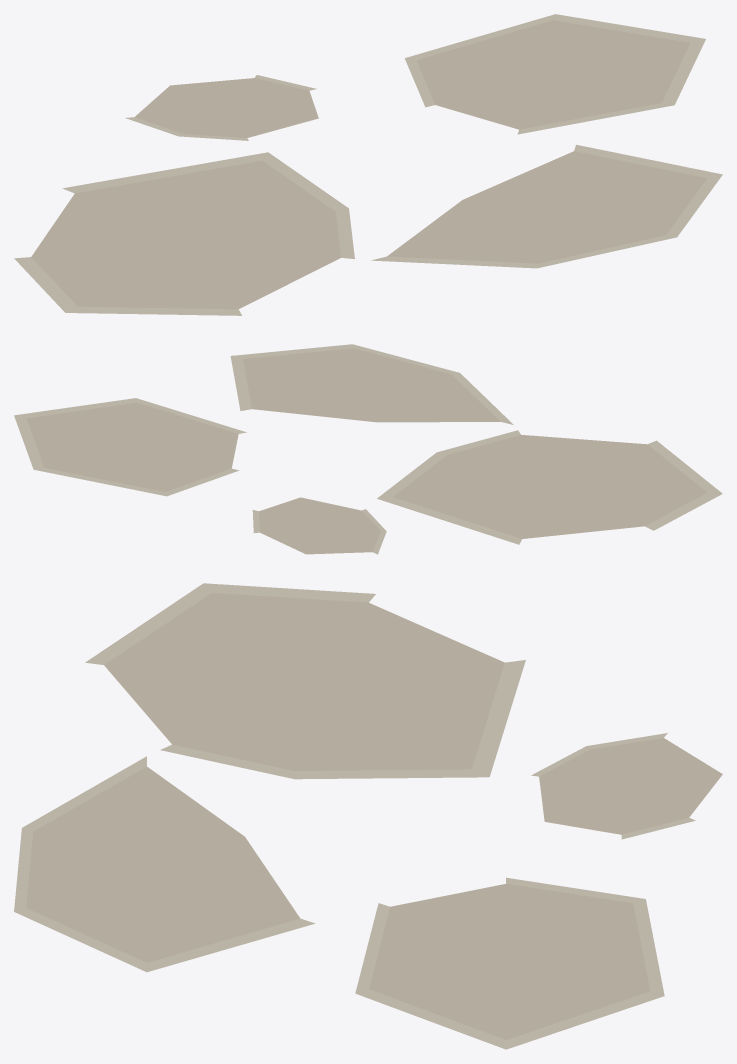
The model's file is SM_MS3_PortableFeed_3.fbx.
3 renders of one model, top to bottom at view 1: azimuth 30°, elevation 25°; view 2: azimuth 150°, elevation 25°; view 3: azimuth 270°, elevation 25°, orthographic. The views are drawn at different scales.
Parts seen in each view (by area): view 1: SM_MS3_PortableFeed_3; view 2: SM_MS3_PortableFeed_3; view 3: SM_MS3_PortableFeed_3.
Part boxes in pixels (x1,y1,x2,y2): SM_MS3_PortableFeed_3: (14,14,722,315); SM_MS3_PortableFeed_3: (14,344,722,554); SM_MS3_PortableFeed_3: (14,583,722,1049).
Bounding box in the file's own units: 1.72 × 1.11 × 0.
